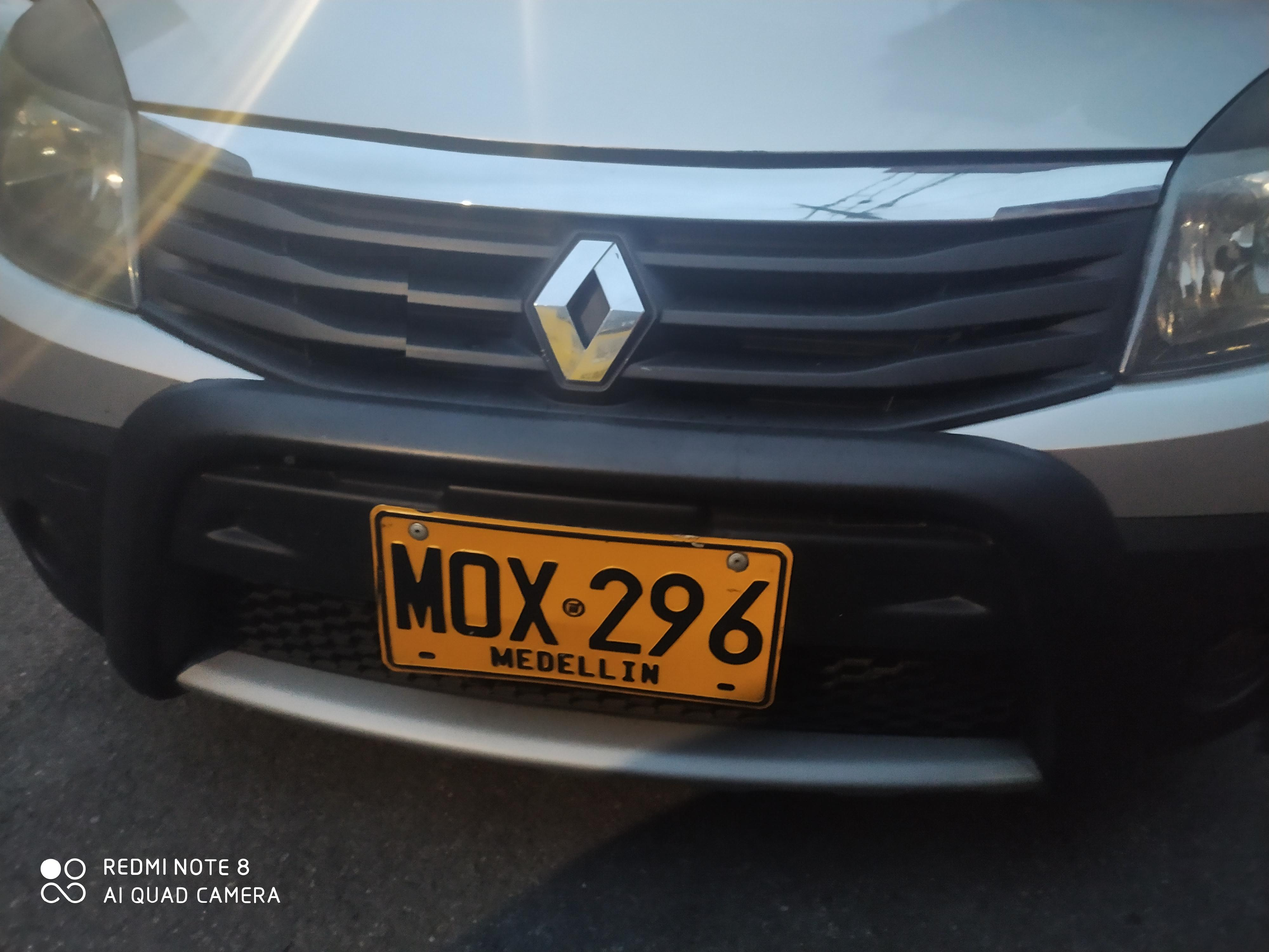placa: (358, 500, 799, 711)
